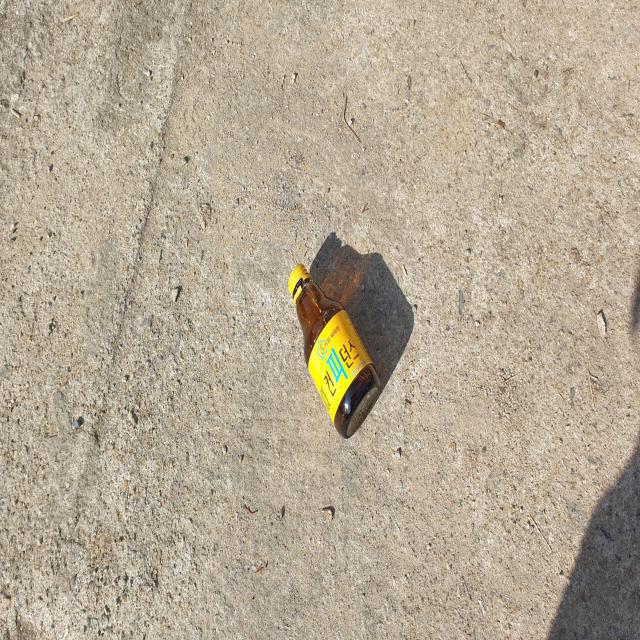glass: (288, 263, 381, 438)
